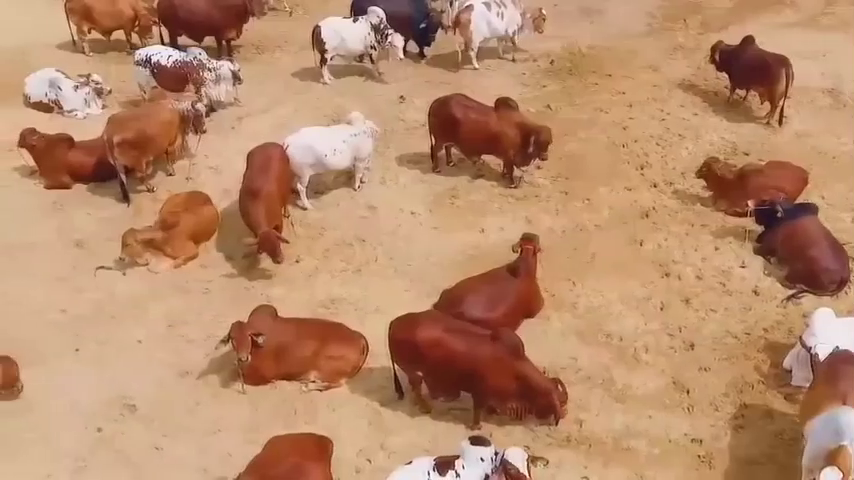bo: (386, 306, 581, 440), (222, 296, 379, 404), (417, 87, 562, 199), (420, 222, 550, 327), (743, 190, 846, 304), (284, 98, 381, 217), (371, 427, 567, 480), (117, 187, 228, 277), (236, 139, 308, 274), (97, 94, 209, 179), (790, 339, 854, 480), (131, 43, 255, 115), (143, 3, 286, 65), (693, 143, 817, 214), (9, 118, 115, 196), (701, 29, 799, 113), (305, 3, 407, 80), (776, 293, 854, 392), (446, 1, 547, 70), (234, 424, 342, 480), (12, 59, 113, 117), (346, 2, 446, 59), (57, 3, 156, 60)
